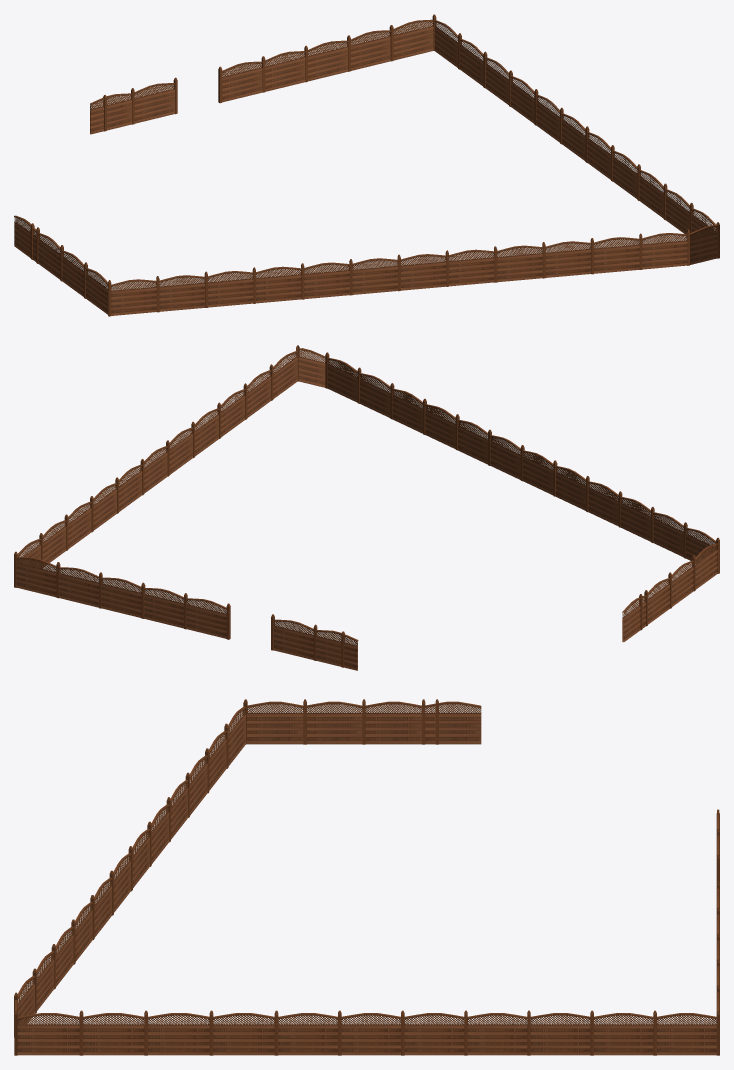
Rendered from street_restaurant_fence01.FBX.
The picture shows the model from 3 angles, top to bottom: view 1: azimuth 30°, elevation 25°; view 2: azimuth 150°, elevation 25°; view 3: azimuth 270°, elevation 25°; orthographic projection. The views are drawn at different scales.
Parts seen in each view (by area): view 1: street_restaurant_fence01; view 2: street_restaurant_fence01; view 3: street_restaurant_fence01.
Boxes of the visible parts, <box> form: street_restaurant_fence01: <box>14,14,719,316</box>; street_restaurant_fence01: <box>14,345,719,670</box>; street_restaurant_fence01: <box>14,699,719,1055</box>.
Bounding box in the file's own units: 2395 × 157 × 2282.
